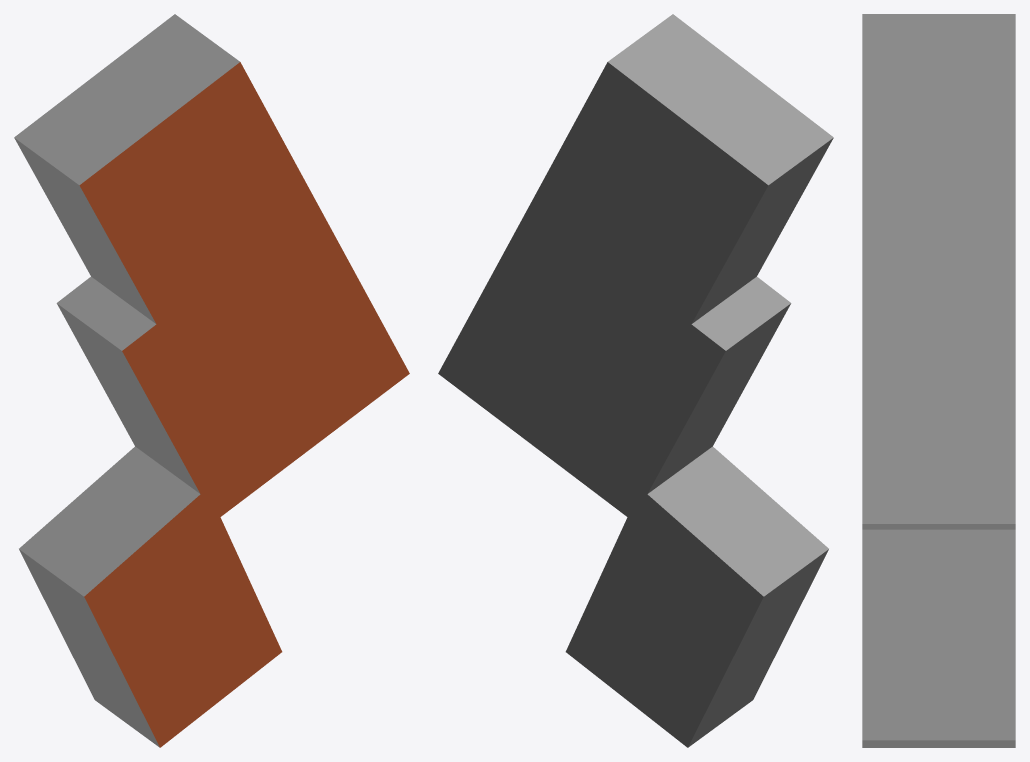
Rendered from construction_5983_assumed_A_Casa_h6m.obj.
3 views of the same model, side by side, from view 1: azimuth 30°, elevation 25°; view 2: azimuth 150°, elevation 25°; view 3: azimuth 270°, elevation 25° (orthographic). The views are drawn at different scales.
Parts seen in each view (by area): view 1: construction_5983_assumed_A_Casa; view 2: construction_5983_assumed_A_Casa; view 3: construction_5983_assumed_A_Casa.
Part boxes in pixels (x1,y1,x2,y2): construction_5983_assumed_A_Casa: [14, 14, 409, 747]; construction_5983_assumed_A_Casa: [438, 14, 833, 747]; construction_5983_assumed_A_Casa: [862, 14, 1015, 747].
Size of the model in its own units: 17.5 by 33.73 by 6.
